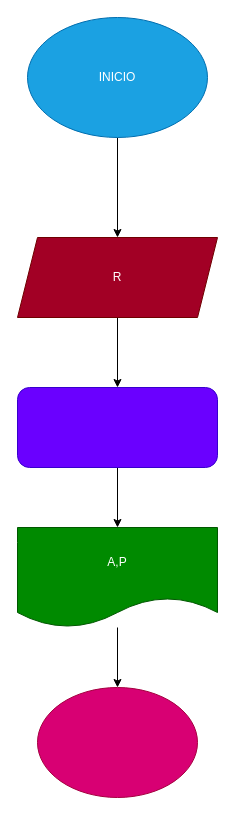
The diagram is 235 pixels wide and 815 high, and some of its shapes have lost their labels. Here are the shapes that lost their labels. From the top down, the box of each, then its label:
(16, 386, 218, 468): A=PI*R*R 2
(36, 686, 198, 798): FIN
